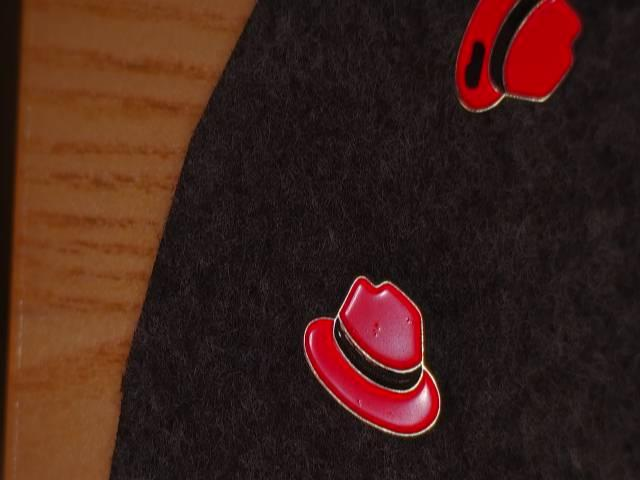Red-Hat: (280, 248, 464, 460), (432, 0, 597, 145)
Scratch: (453, 30, 496, 97)
